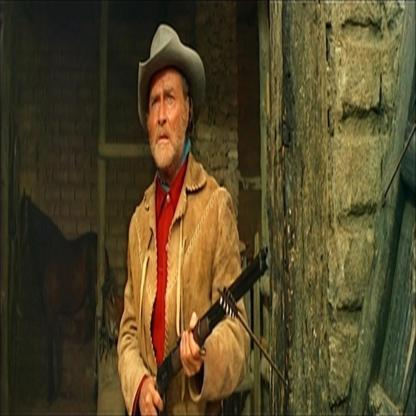gun: (142, 256, 275, 416)
